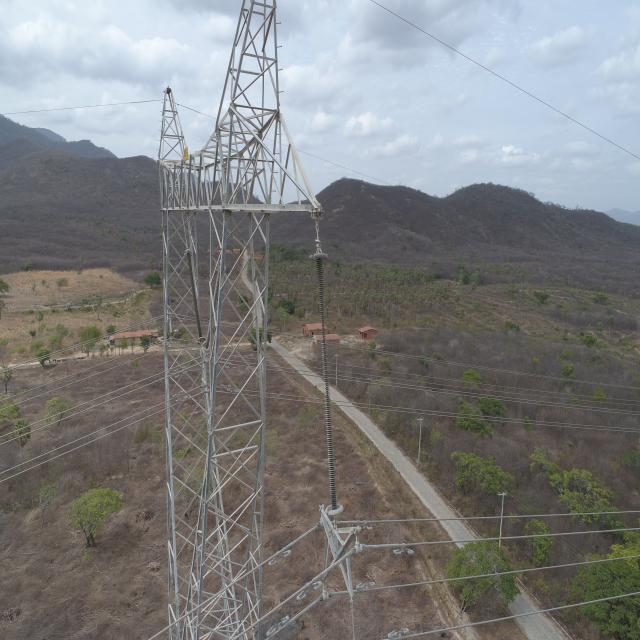杆塔: (163, 0, 320, 640)
正常电缆: (363, 0, 640, 173), (369, 550, 639, 596), (0, 408, 163, 483), (339, 379, 640, 419), (1, 401, 163, 475), (417, 588, 639, 640), (0, 377, 163, 446), (0, 370, 162, 439), (341, 370, 640, 407), (0, 348, 162, 412), (0, 340, 161, 403), (348, 404, 640, 434), (0, 319, 157, 374), (372, 525, 640, 550), (375, 504, 640, 528), (341, 374, 476, 394)
正常绝缘子: (310, 242, 346, 529), (184, 248, 207, 342)
